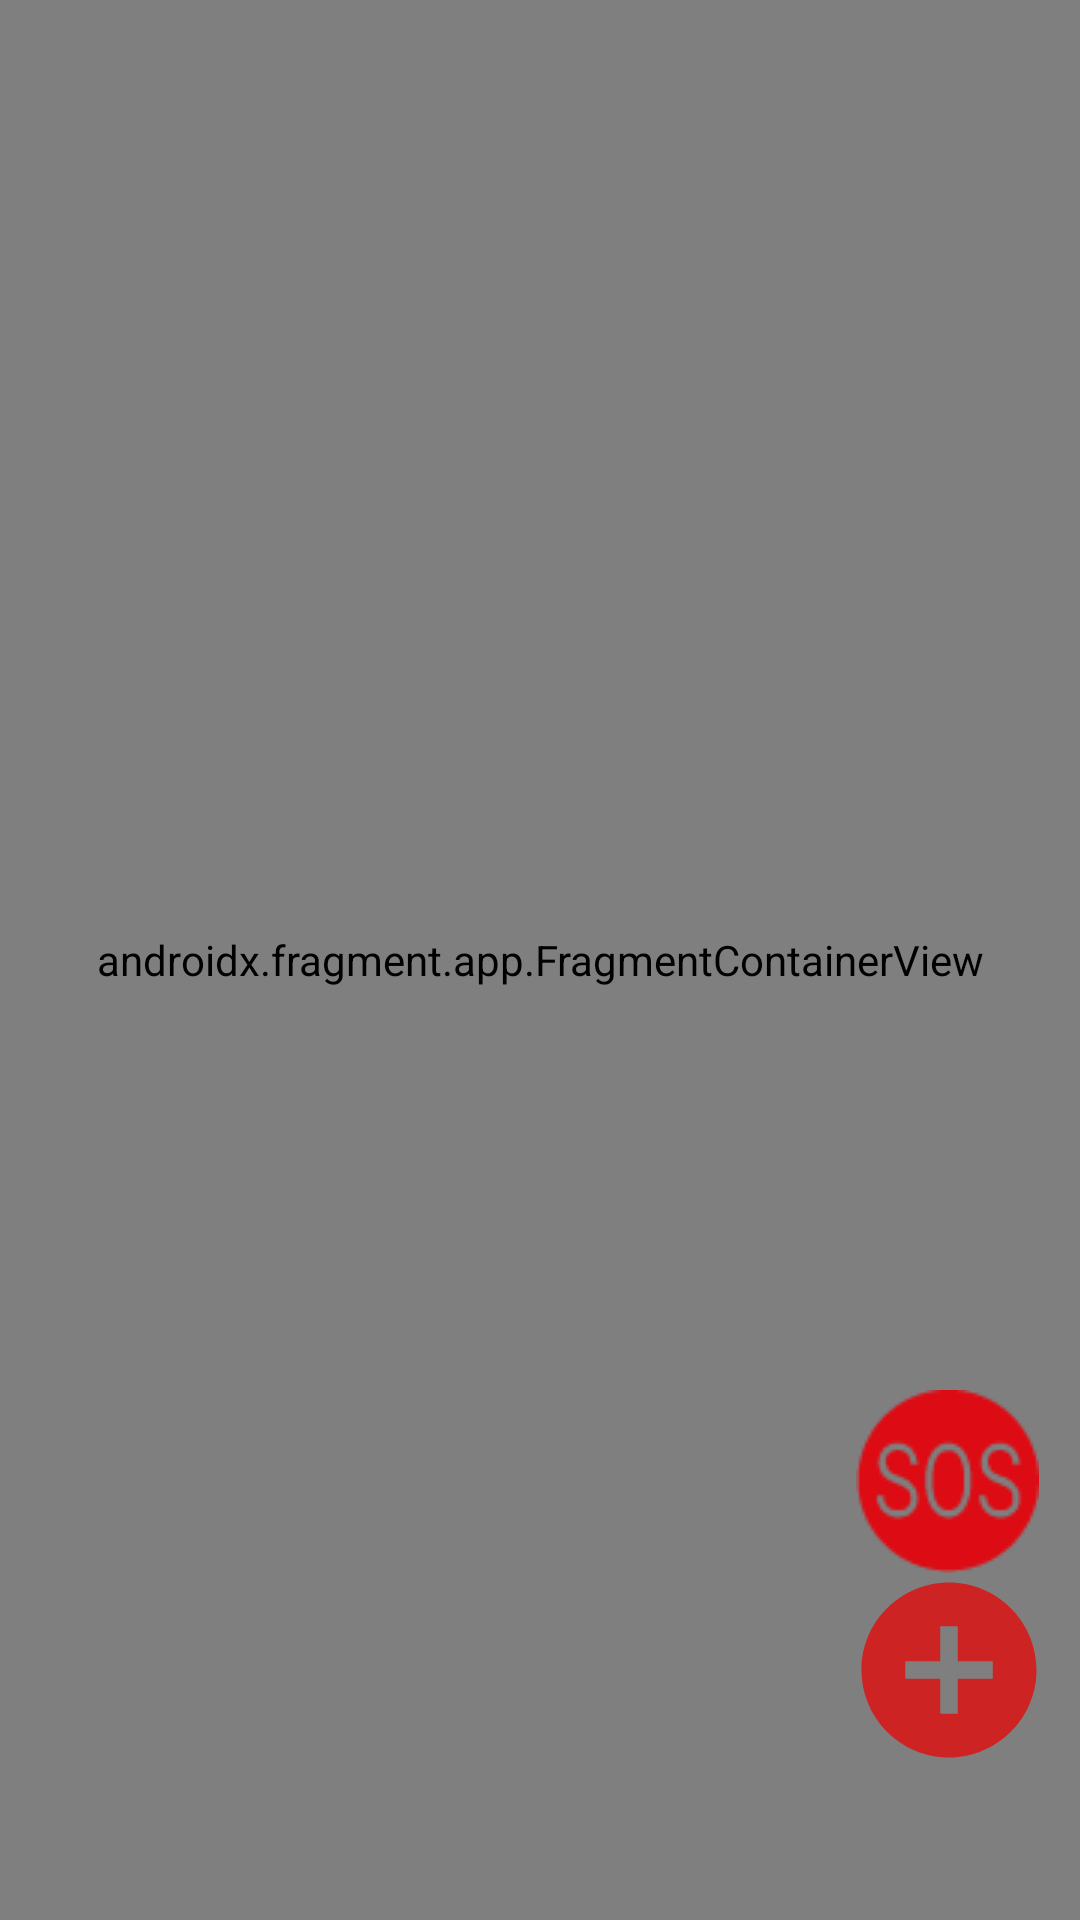

Icons on this 1080 x 1920 Android screen, each with its box as (x1, y1, x2, y2):
add circle: (861, 1582, 1037, 1758)
